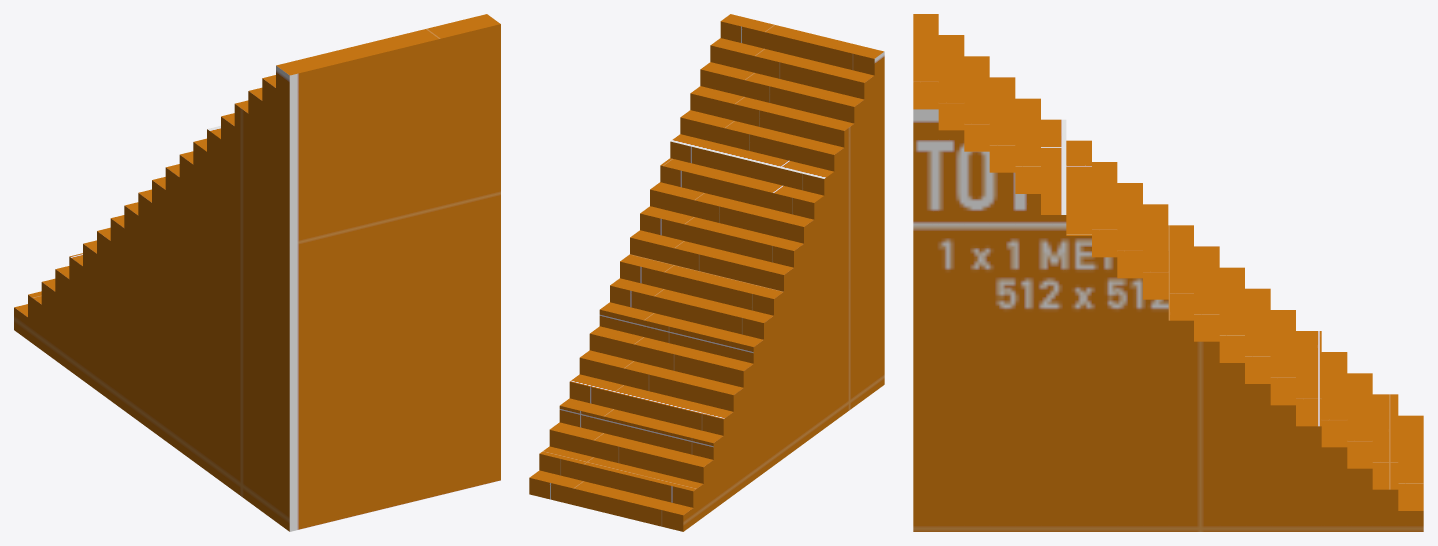
File: ME_Stairs_01.fbx
3 renders of one model, left to right at view 1: azimuth 30°, elevation 25°; view 2: azimuth 150°, elevation 25°; view 3: azimuth 270°, elevation 25°, orthographic. The views are drawn at different scales.
Visible parts, largest first — view 1: Stairs; view 2: Stairs; view 3: Stairs.
Part boxes in pixels (bbox=[...]): Stairs: bbox=[14, 14, 500, 531]; Stairs: bbox=[529, 14, 884, 531]; Stairs: bbox=[913, 14, 1423, 531].
Size of the model in its own units: 250 by 517 by 566.
1 material, 1 textured.
